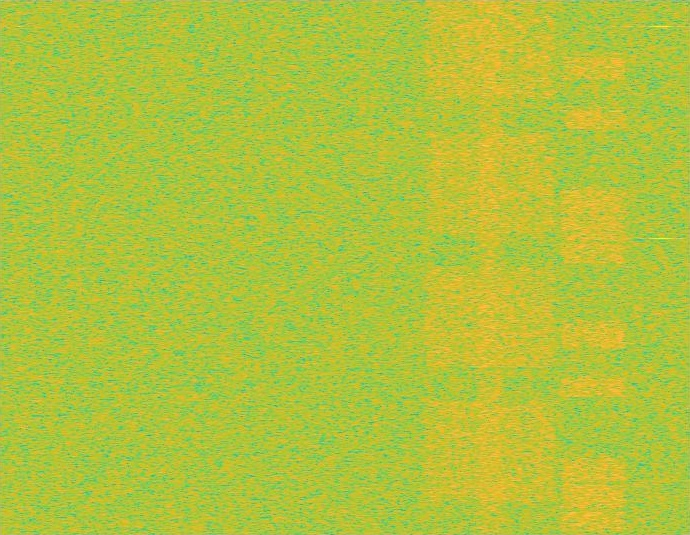5G: (421, 0, 559, 534)
DSSS: (474, 0, 505, 534)
LTE: (559, 0, 628, 534)
Radar: (655, 0, 668, 534)
